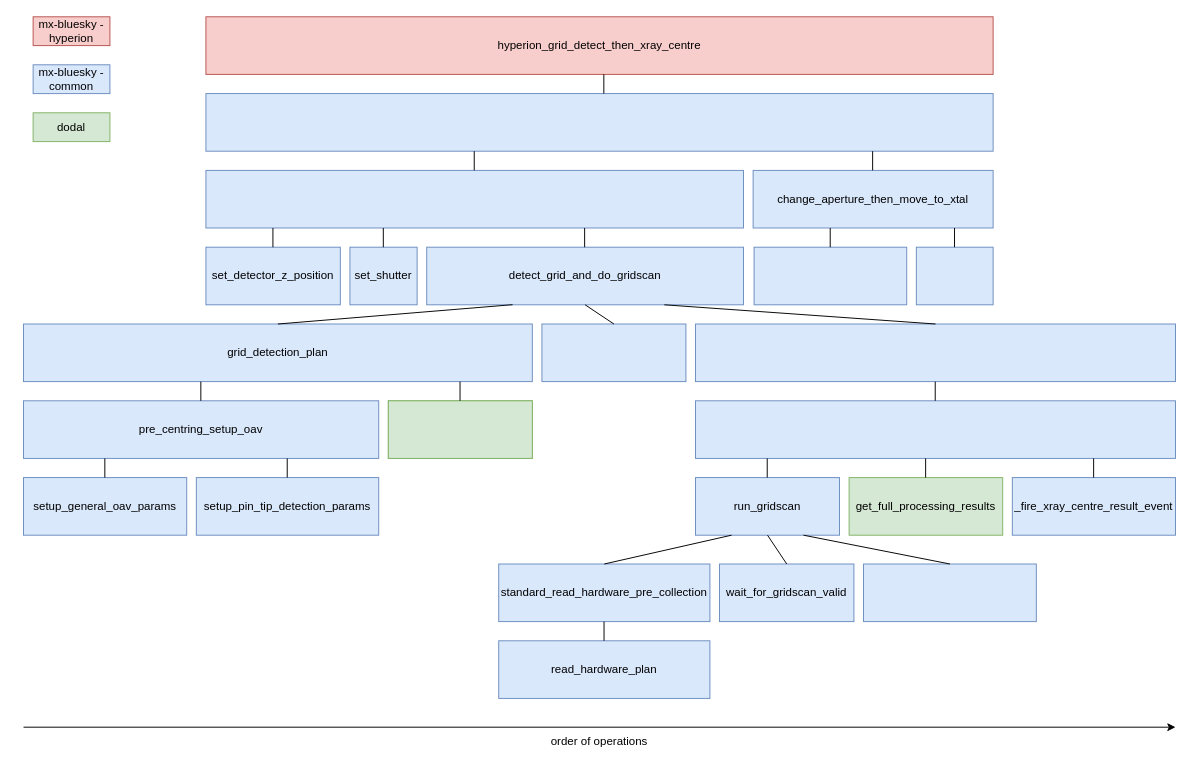
Some shapes in this 1200 by 773 pixel diagram are drawn without their labels. Each missing label, with the centre of its shape:
"flyscan_xray_centre_no_move" goes at point 935,352.
"grid_detect_then_xray_centre_plan" goes at point 599,122.
"kickoff_and_complete_gridscan" goes at point 949,592.
"move_aperture_if_required" goes at point 613,352.
"move_x_y_z" goes at point 954,275.
"run_gridscan_and_fetch_results" goes at point 935,429.
"set_aperture_for_bbox_mm" goes at point 830,275.
"start_preparing_data_collection_then_do_plan" goes at point 474,198.
"wait_for_tip_to_be_found" goes at point 459,429.
